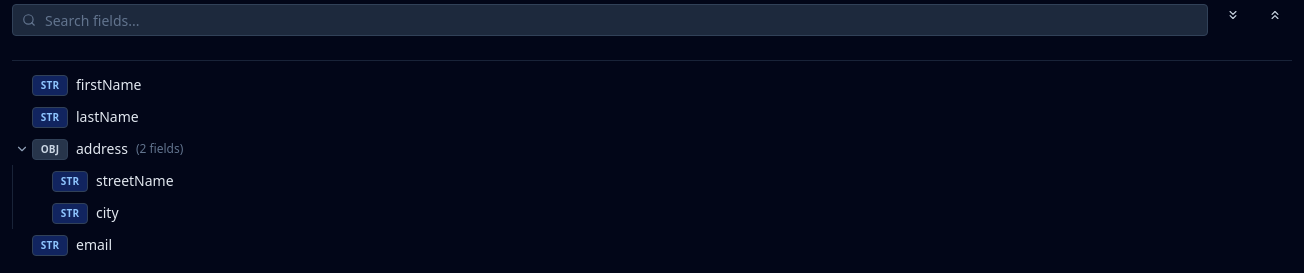
Test: SchemaTreeView › Search (AE-03) › clears search and restores full tree
Type "street" into the field named "Search schema fields".
click(610, 20); type("street")  # box 12,4 -> 1208,36
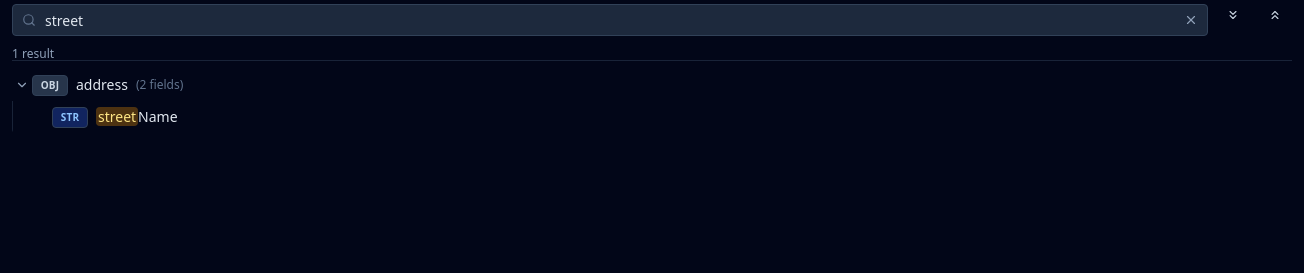
expect the text "firstName" is gone: met
Click clear button
Click the button named "Clear search".
click(1191, 20)  # box 1182,11 -> 1200,29
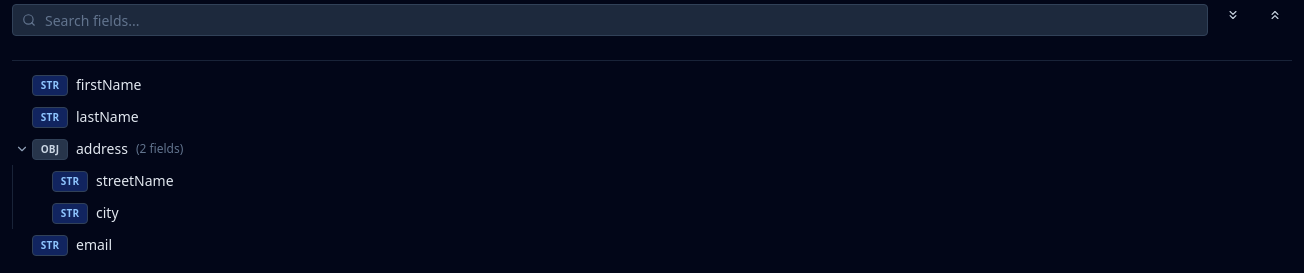
expect the text "firstName" is shown: met, box 76,75 -> 142,95
expect the text "email" is shown: met, box 76,235 -> 112,255
